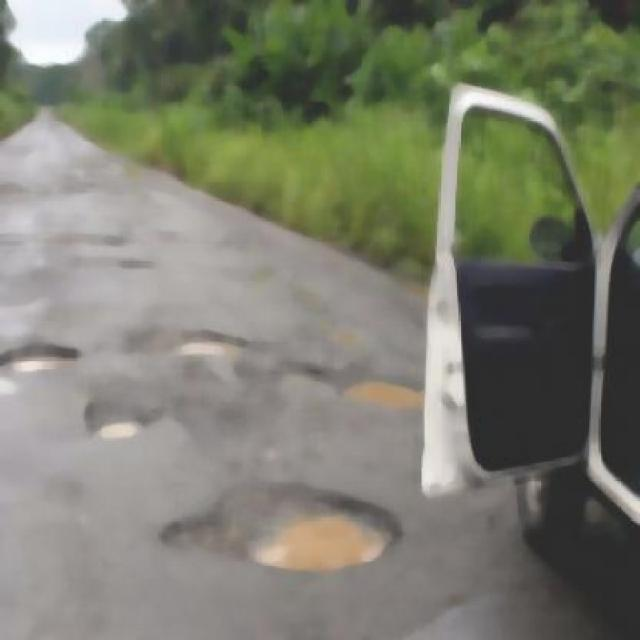Pothole: (215, 480, 387, 562), (343, 366, 429, 422), (176, 308, 236, 372), (10, 337, 88, 385), (95, 402, 152, 443)
